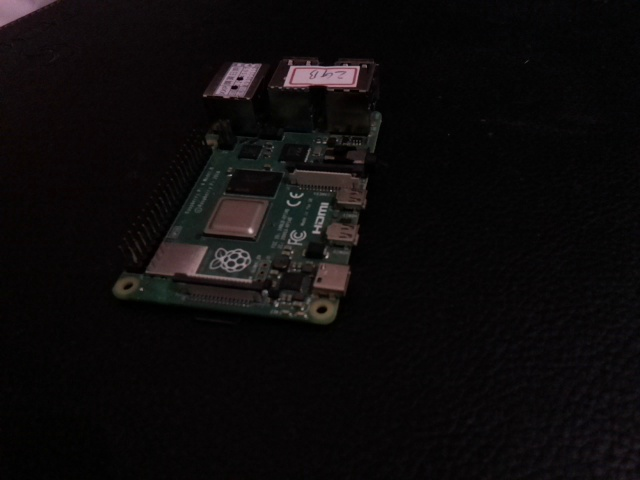pi4: (88, 46, 394, 352)
